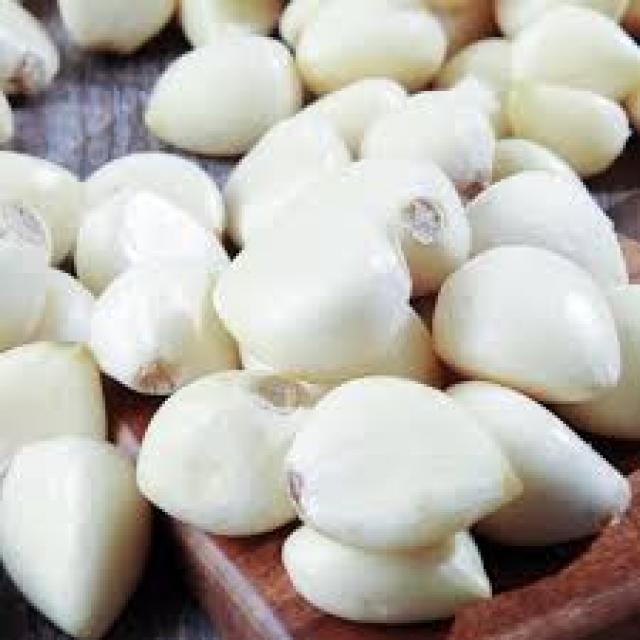garlic: (85, 148, 629, 574)
